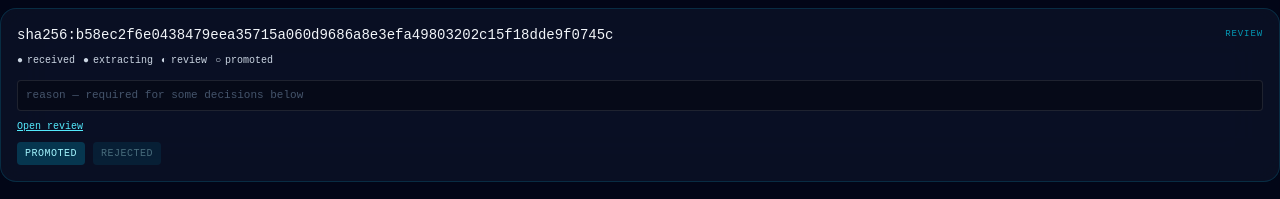
it: PCN26-117 — review → promoted → the answer label (built fixture, real components) › B3 — the success (4b, hypothetical): the next poll reaches promoted › the ladder completes, polling stops, and detail is drawn ONLY per today's existing rule (rejected/failed, not promoted)
Click the button "promoted": (51, 153) 17,142 -> 85,164
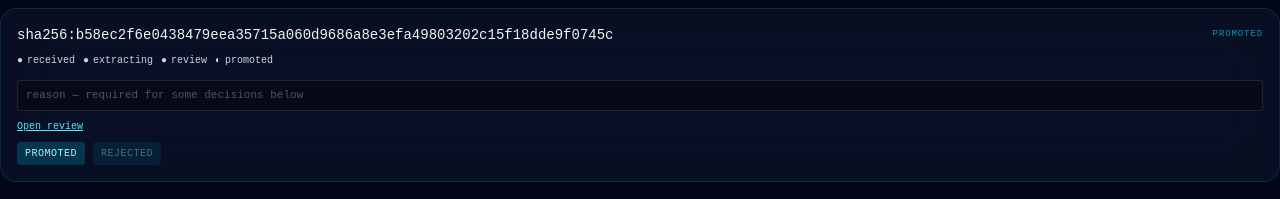
expect the message "promoted" is shown: met, box 1213,28 -> 1263,42
